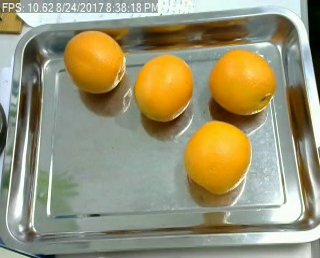Orange: (186, 120, 250, 192), (208, 49, 276, 112), (134, 54, 194, 121), (63, 29, 124, 92)
